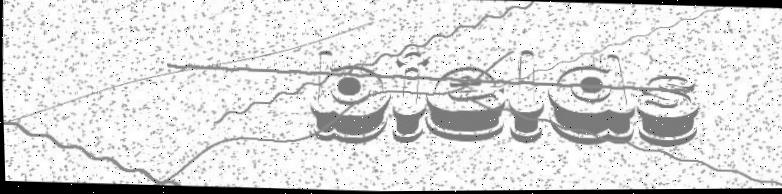b: (306, 49, 394, 146)
d: (544, 52, 638, 146)
e: (422, 65, 507, 145)
i: (390, 51, 426, 145)
l: (506, 49, 547, 144)
s: (635, 73, 700, 148)
